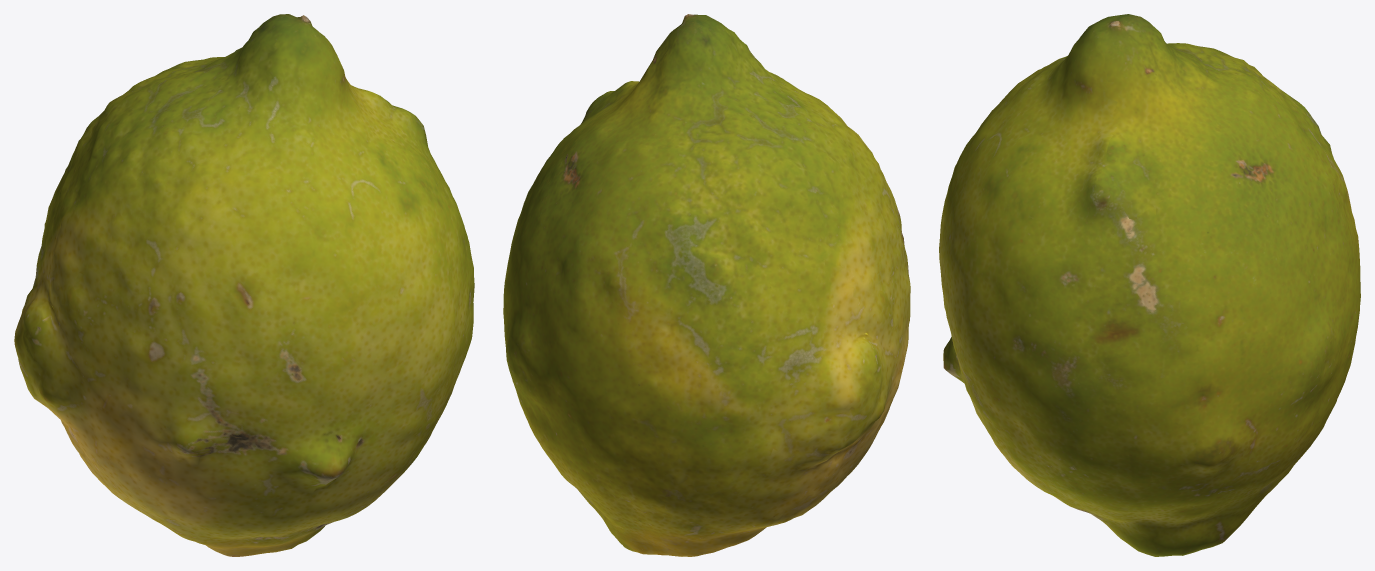
Rendered from lemon.obj.
The picture shows the model from 3 angles, left to right: view 1: azimuth 30°, elevation 25°; view 2: azimuth 150°, elevation 25°; view 3: azimuth 270°, elevation 25°; orthographic projection. The views are drawn at different scales.
Parts seen in each view (by area): view 1: lemon; view 2: lemon; view 3: lemon.
Boxes of the visible parts, x1,y1,x2,y2 form: lemon: (14, 14, 474, 556); lemon: (503, 14, 910, 556); lemon: (939, 14, 1360, 556).
Bounding box in the file's own units: 0.0689 × 0.0905 × 0.0658.
1 material, 1 textured.
